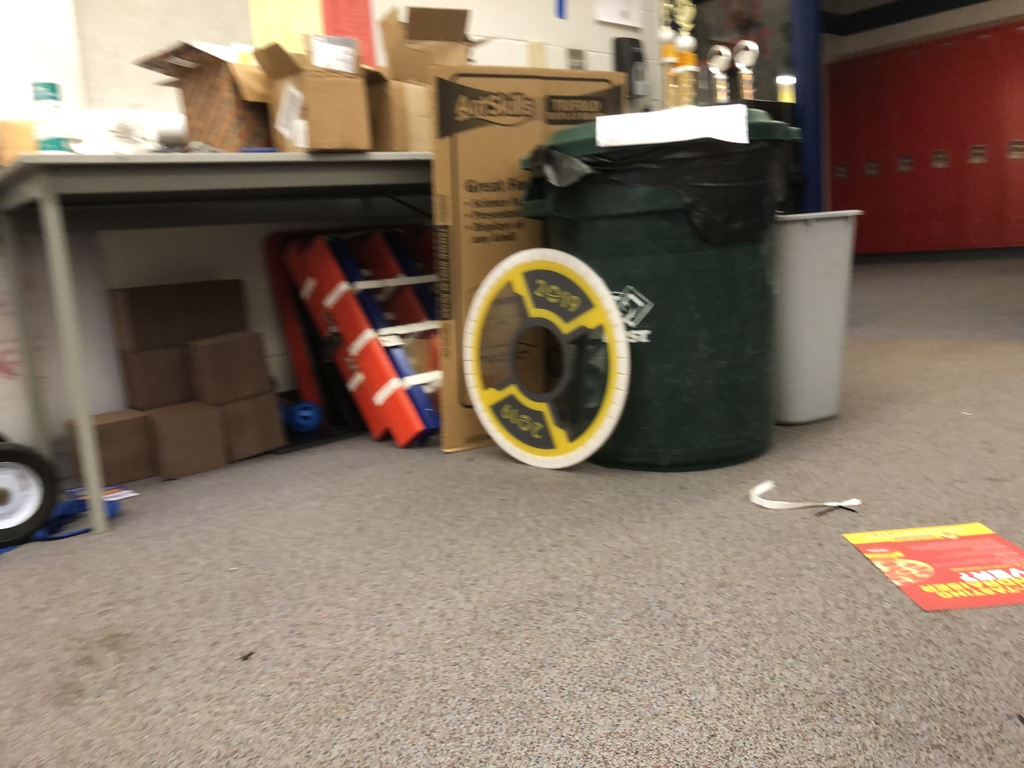hatch_panel: (450, 234, 642, 495)
